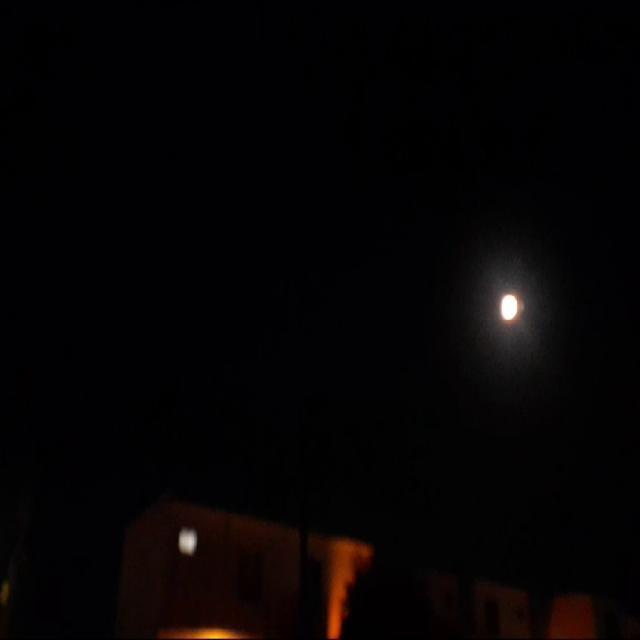moon: (501, 290, 524, 324)
